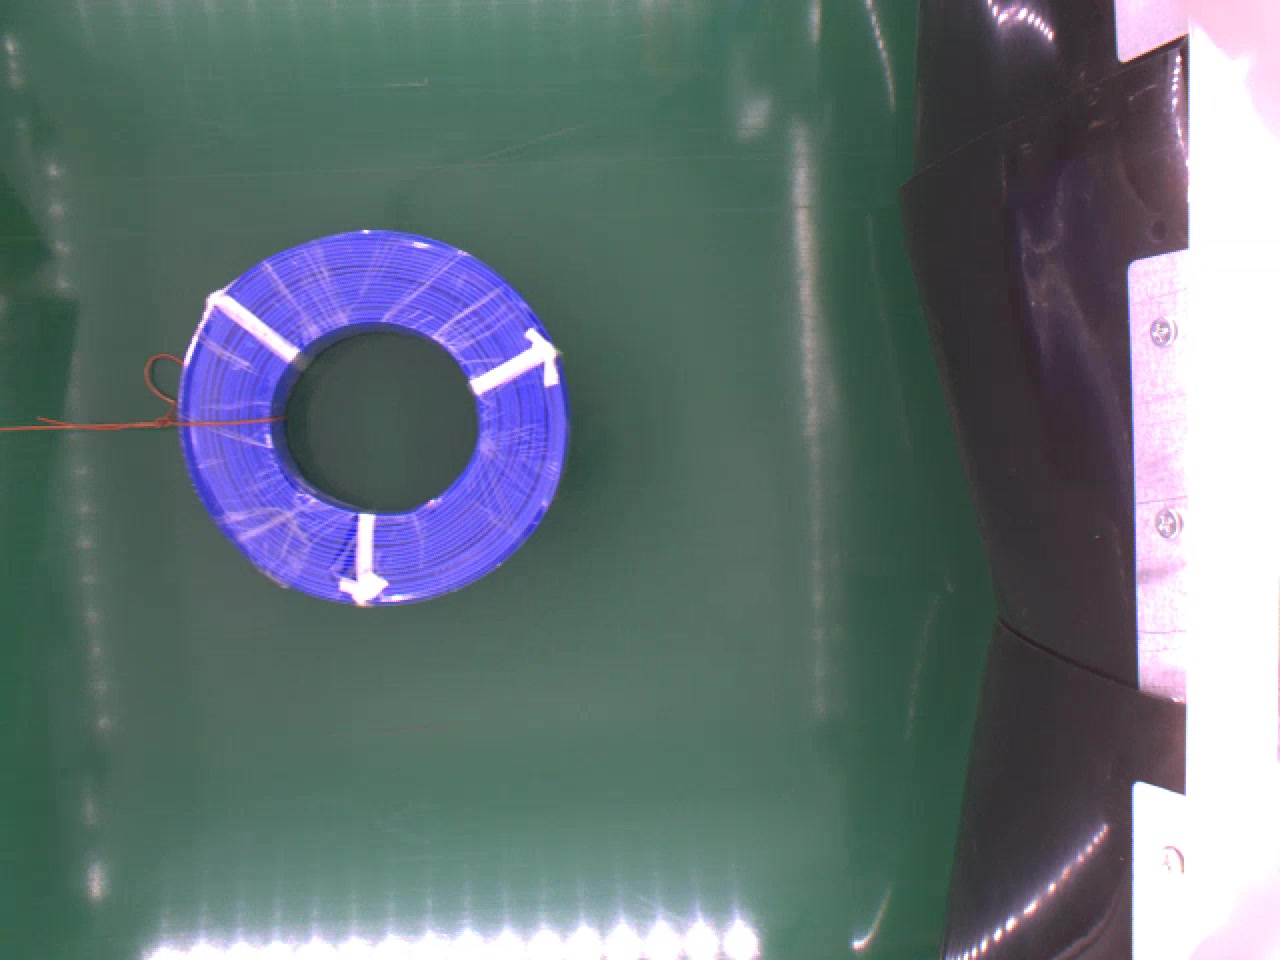blue: (181, 225, 573, 603)
